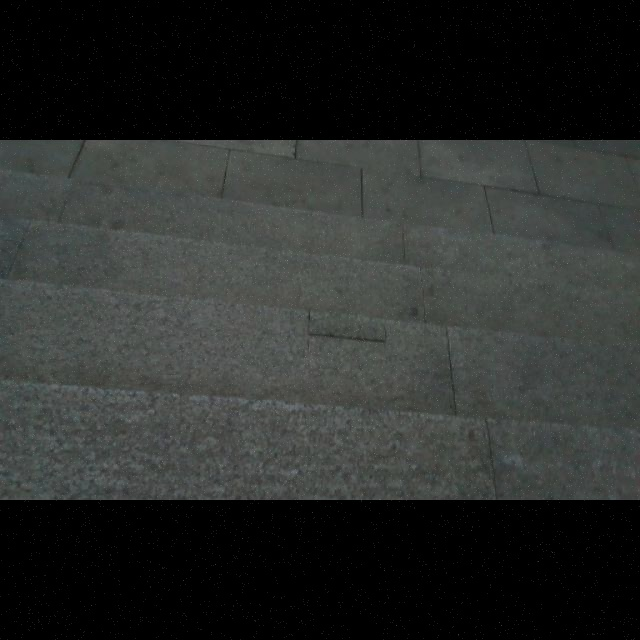stair: (9, 216, 630, 475)
